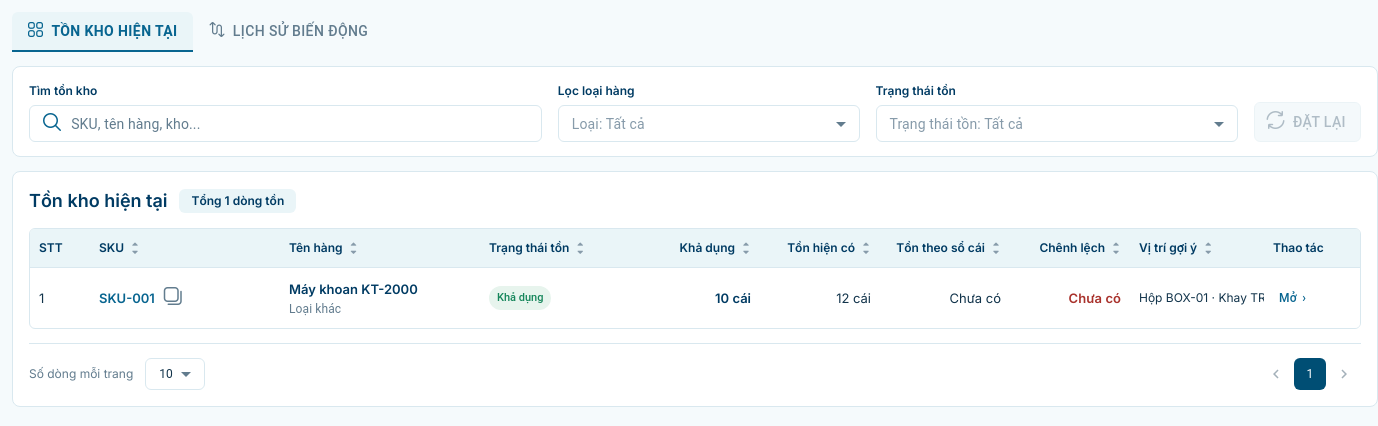
InventoryPage (INV-01 hub) › chuyển tab Lịch sử biến động hiển thị movement
Expected: the text "SKU-001" is shown, [99, 290, 155, 306]
Click the tab "Lịch sử biến động". click: (289,32)
box: [194, 12, 384, 52]
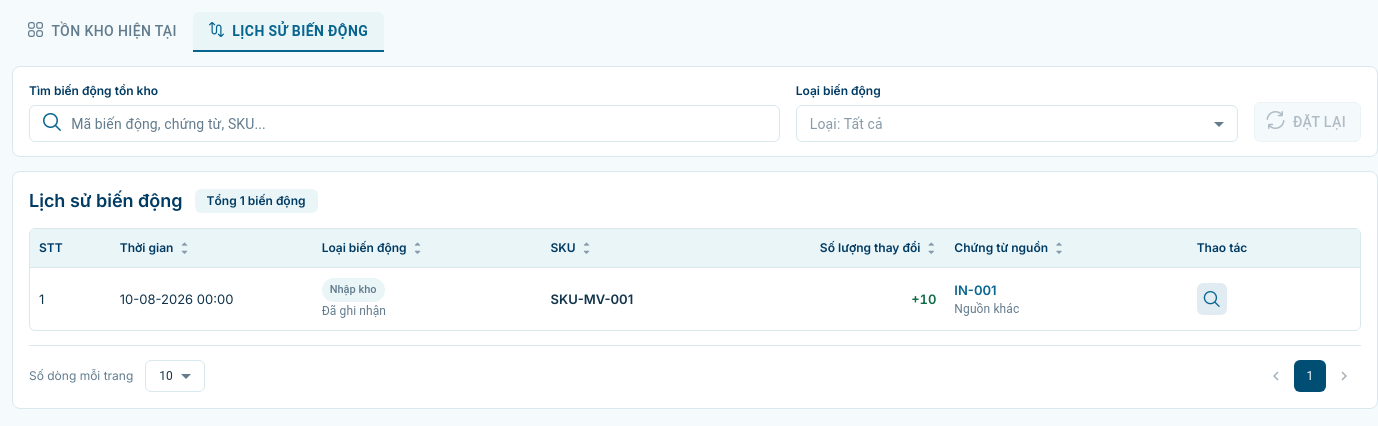
Now the text "SKU-MV-001" is shown, box [550, 291, 633, 307]
